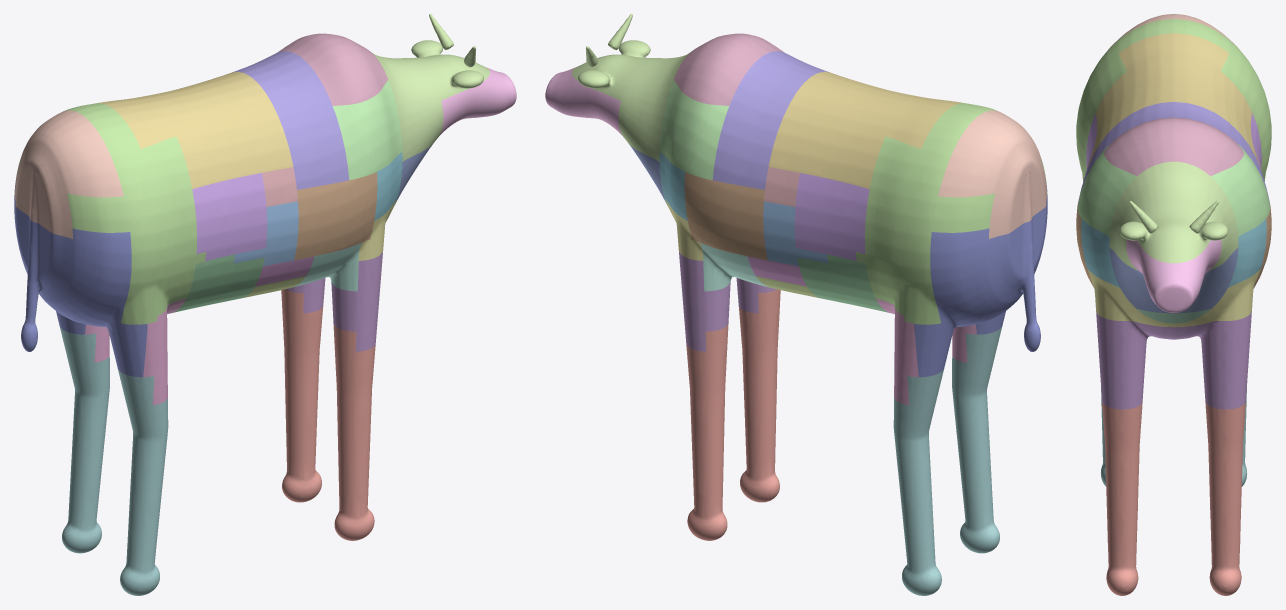
3 renders of one model, left to right at view 1: azimuth 30°, elevation 25°; view 2: azimuth 150°, elevation 25°; view 3: azimuth 270°, elevation 25°, orthographic.
Parts seen in each view (by area): view 1: seoldo, satae, apsatae, chaekkeut, udun, kkori, kkotdeungsim, moksim, galbi, ansim, salchisal, deungsim (+10 smaller); view 2: seoldo, satae, apsatae, chaekkeut, udun, kkori, kkotdeungsim, moksim, galbi, ansim, salchisal, deungsim (+10 smaller); view 3: apsatae, moksim, chaekkeut, yangji, seoldo, salchisal, deungsim, useol, buchaesal, apdari, jebichuri, kkotdeungsim (+5 smaller).
Boxes of the visible parts, bbox=[...] form: seoldo: bbox=[15, 103, 205, 324]; satae: bbox=[59, 326, 168, 595]; apsatae: bbox=[281, 289, 375, 540]; chaekkeut: bbox=[99, 71, 293, 188]; udun: bbox=[14, 185, 147, 377]; kkori: bbox=[14, 110, 123, 238]; kkotdeungsim: bbox=[232, 51, 349, 189]; moksim: bbox=[370, 14, 489, 161]; galbi: bbox=[294, 172, 377, 260]; ansim: bbox=[192, 173, 267, 261]; salchisal: bbox=[278, 33, 388, 105]; deungsim: bbox=[332, 79, 402, 180]; seoldo: bbox=[856, 103, 1046, 324]; satae: bbox=[893, 326, 1002, 595]; apsatae: bbox=[686, 289, 780, 540]; chaekkeut: bbox=[768, 71, 962, 188]; udun: bbox=[914, 185, 1047, 377]; kkori: bbox=[938, 110, 1047, 238]; kkotdeungsim: bbox=[712, 51, 829, 189]; moksim: bbox=[572, 14, 691, 161]; galbi: bbox=[684, 172, 767, 260]; ansim: bbox=[794, 173, 869, 261]; salchisal: bbox=[673, 33, 783, 105]; deungsim: bbox=[659, 79, 729, 180]; apsatae: bbox=[1102, 402, 1245, 595]; moksim: bbox=[1109, 161, 1238, 270]; chaekkeut: bbox=[1091, 33, 1256, 158]; yangji: bbox=[1096, 311, 1251, 409]; seoldo: bbox=[1076, 19, 1271, 181]; salchisal: bbox=[1104, 117, 1243, 176]; deungsim: bbox=[1078, 144, 1269, 236]; useol: bbox=[1126, 239, 1221, 312]; buchaesal: bbox=[1088, 270, 1259, 327]; apdari: bbox=[1081, 218, 1266, 287]; jebichuri: bbox=[1109, 248, 1238, 313]; kkotdeungsim: bbox=[1078, 102, 1269, 201].
Bounding box in the file's own units: 0.9842 × 0.9293 × 0.3484.
